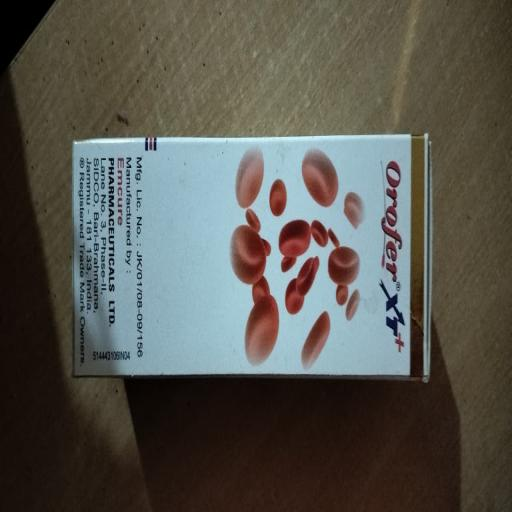orofer xt plus: (56, 108, 458, 480)
